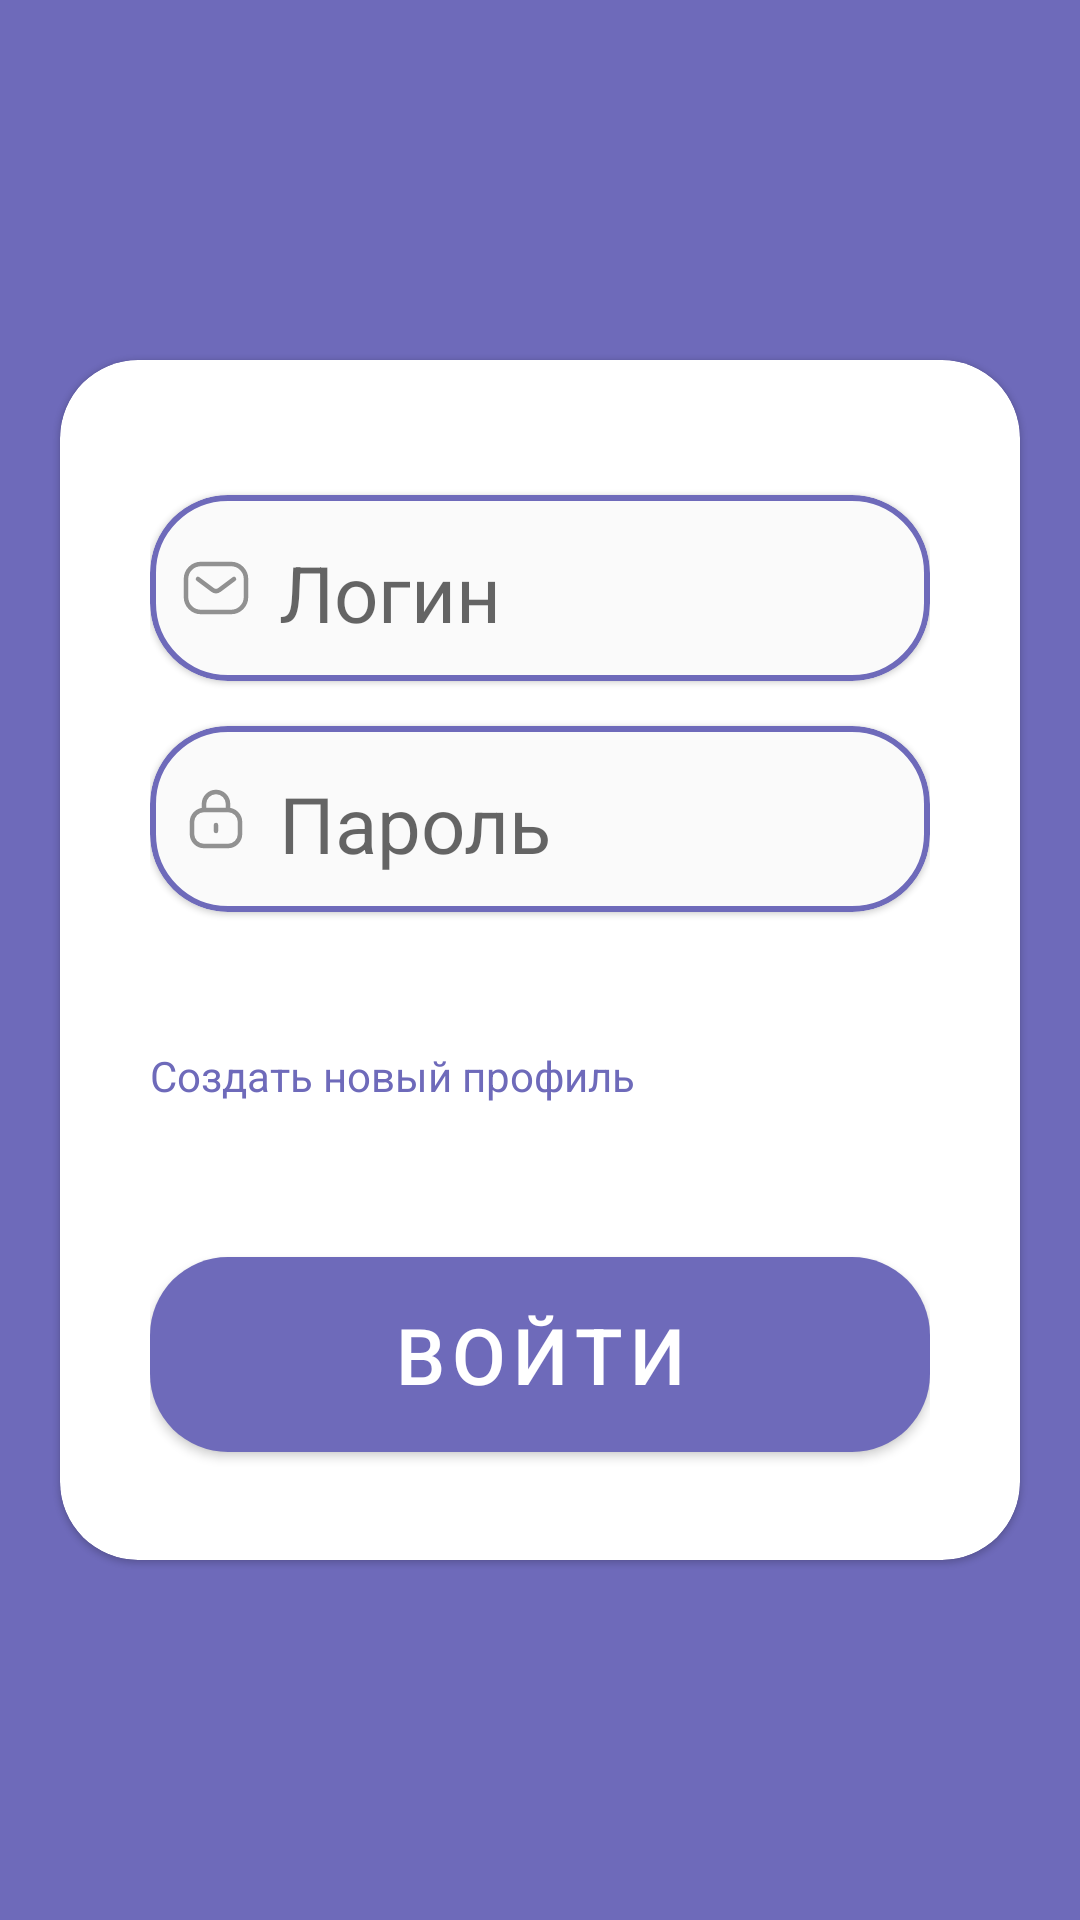

Screen size 1080px x 1920px. Icon name, then its center in pixels as point (x, y):
email: point (216, 588)
password: point (216, 819)
